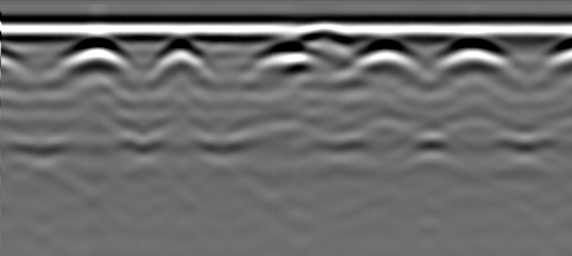pipe: (298, 22, 354, 44)
steel: (57, 39, 129, 74), (438, 38, 508, 71), (358, 39, 417, 76), (258, 41, 321, 73), (157, 41, 208, 74)
